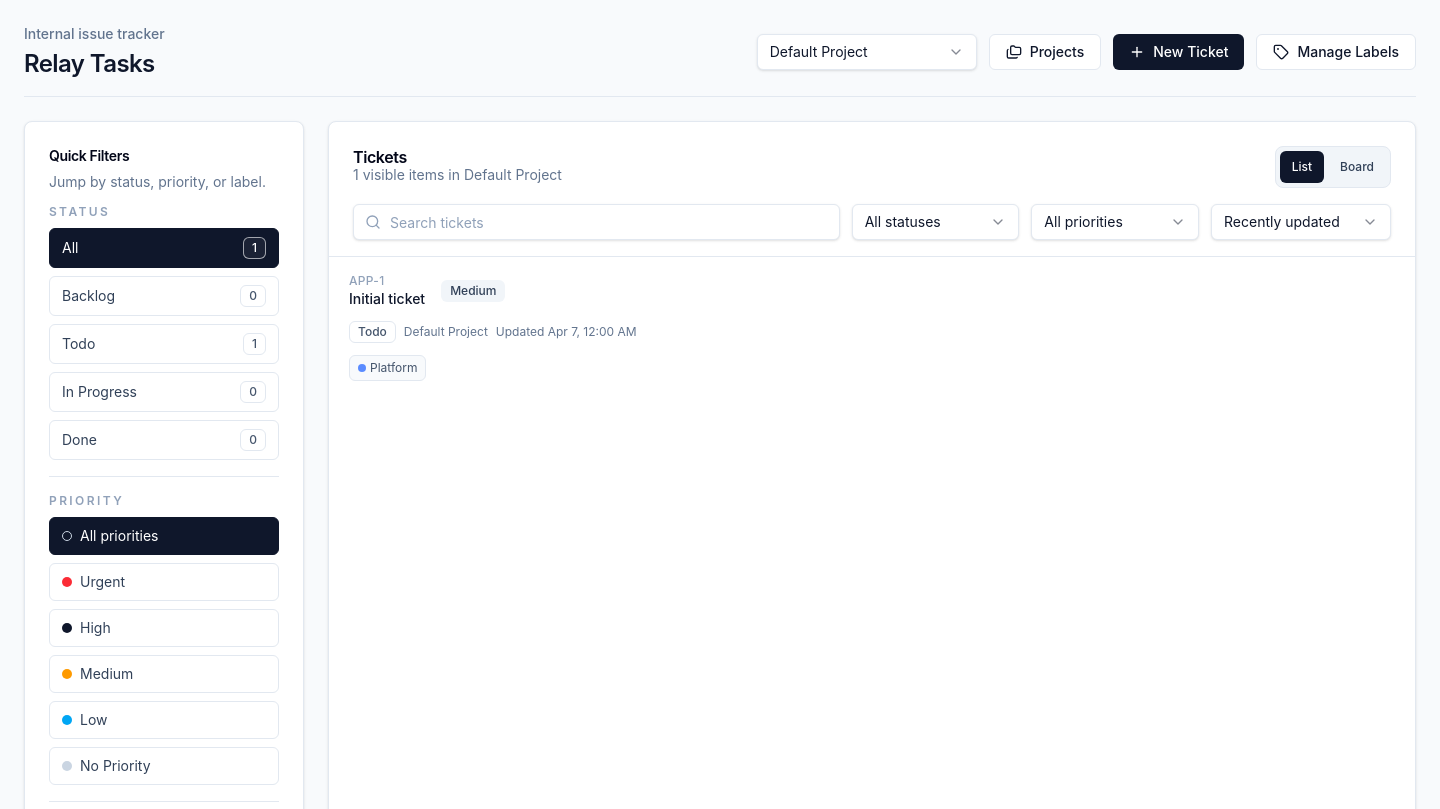
Test case: App › clears the selected ticket when switching projects
The image size is (1440, 809).
Click the button "Initial ticket": [872, 327] box 329,257 -> 1415,397
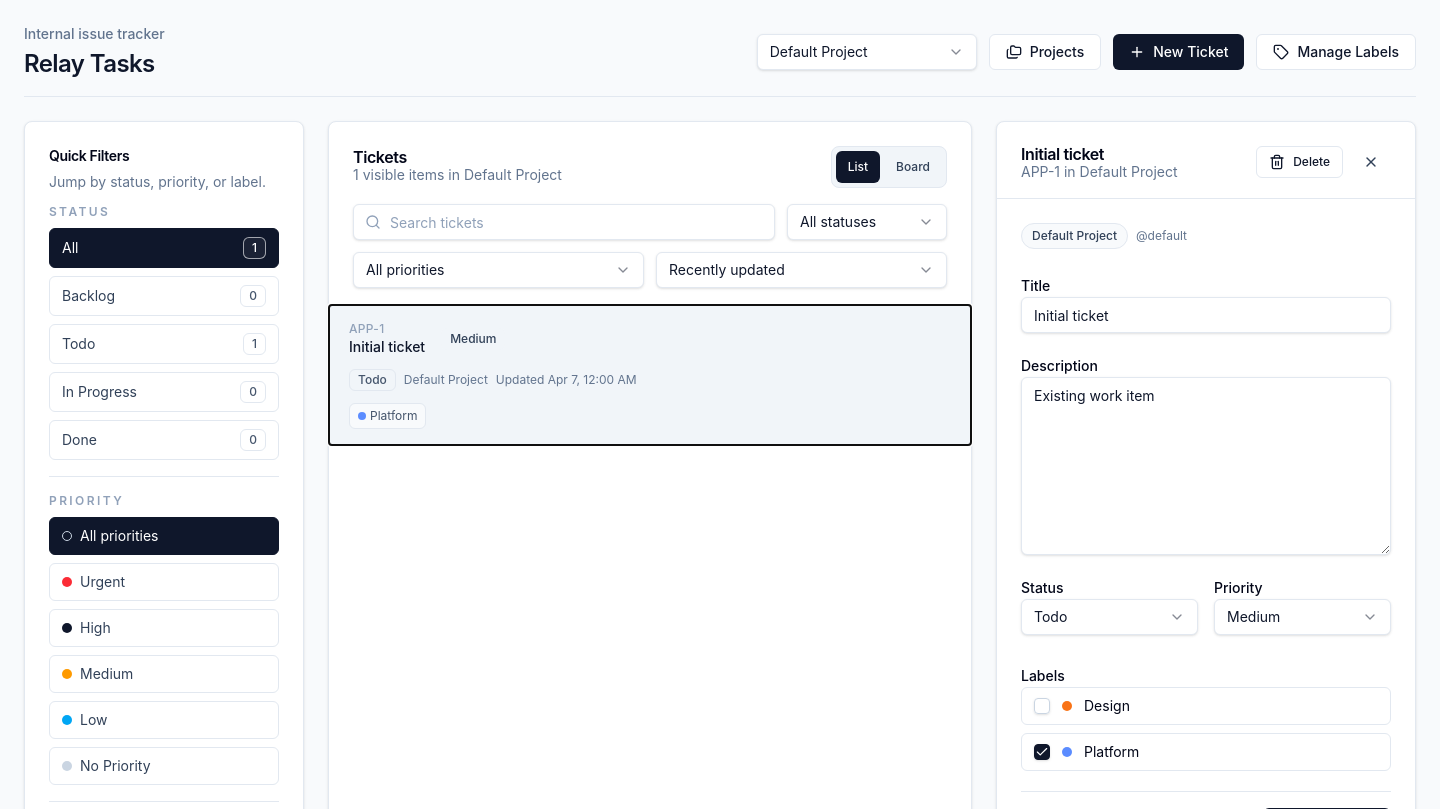
Result: the field named "Ticket title" is shown at 1021,297 -> 1391,333
Click the dropdown named "Active project": [867, 52] box 757,34 -> 977,70
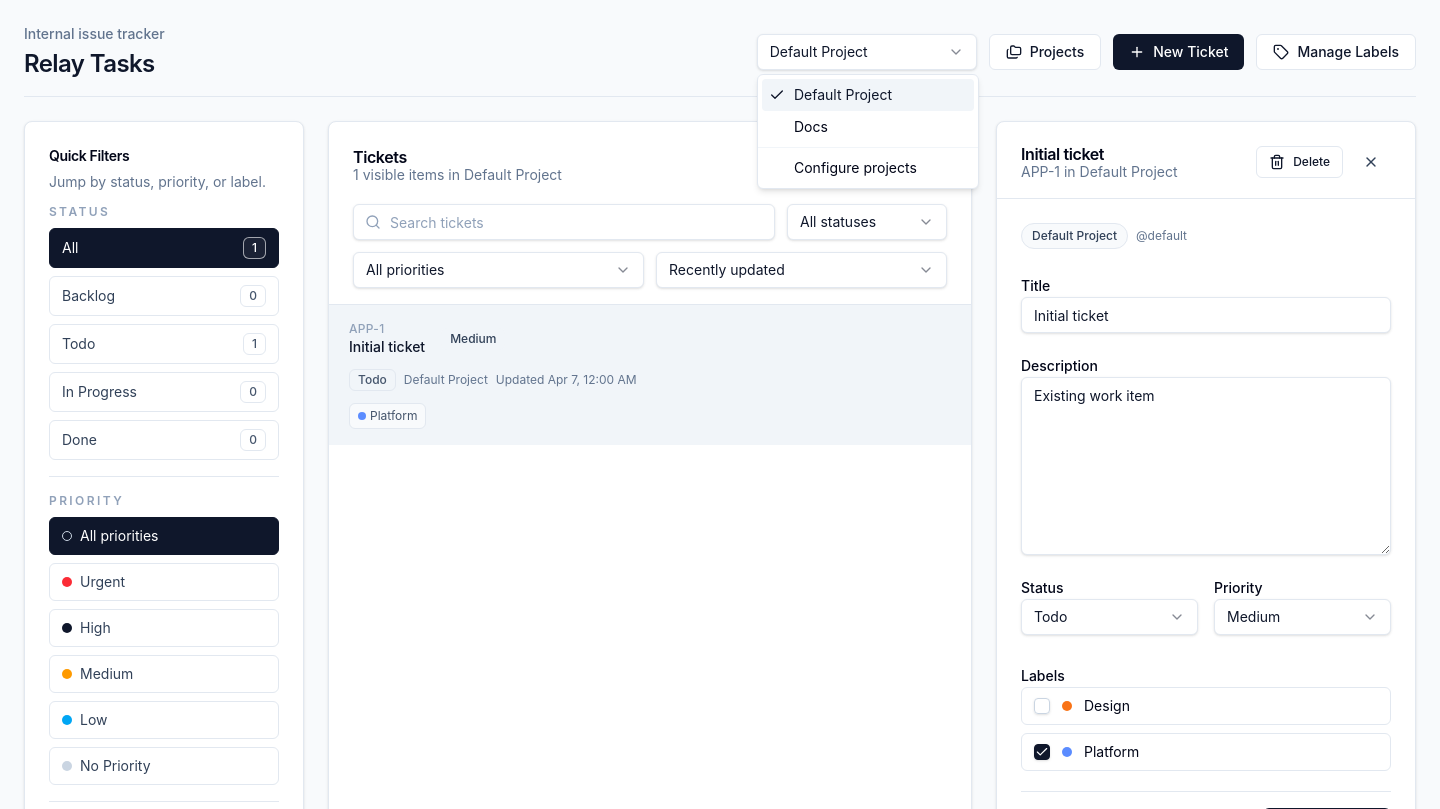
Click the option "Docs": [811, 126] box 794,118 -> 828,135
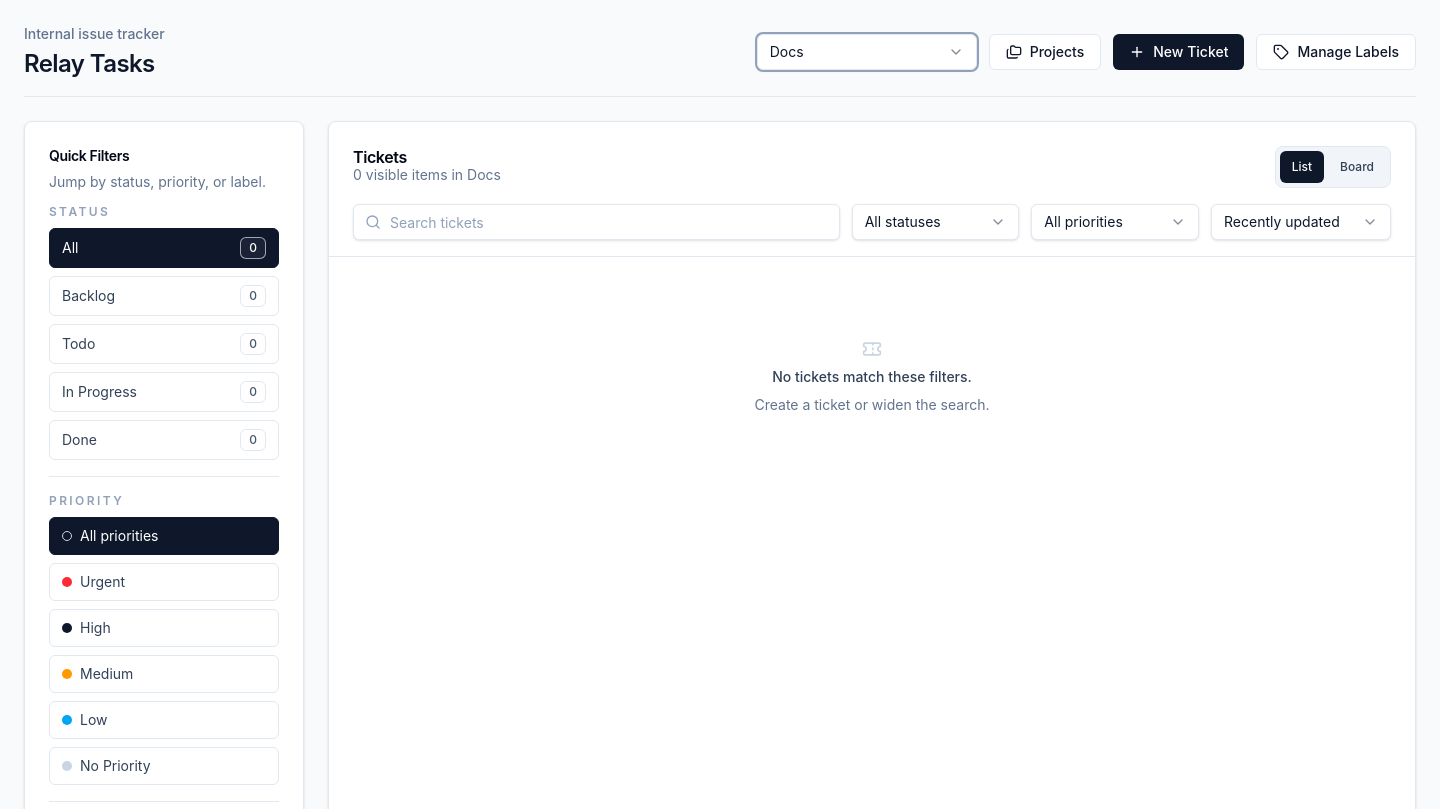
Result: the field labelled "Ticket title" is gone
